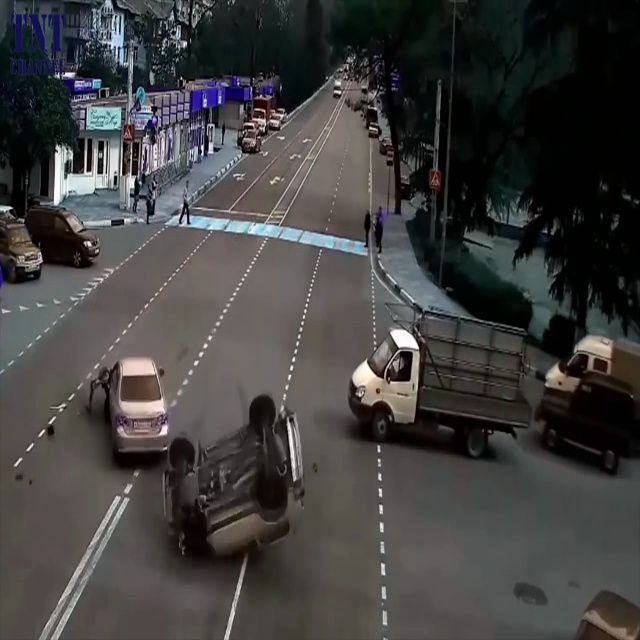acc: (85, 351, 310, 572)
